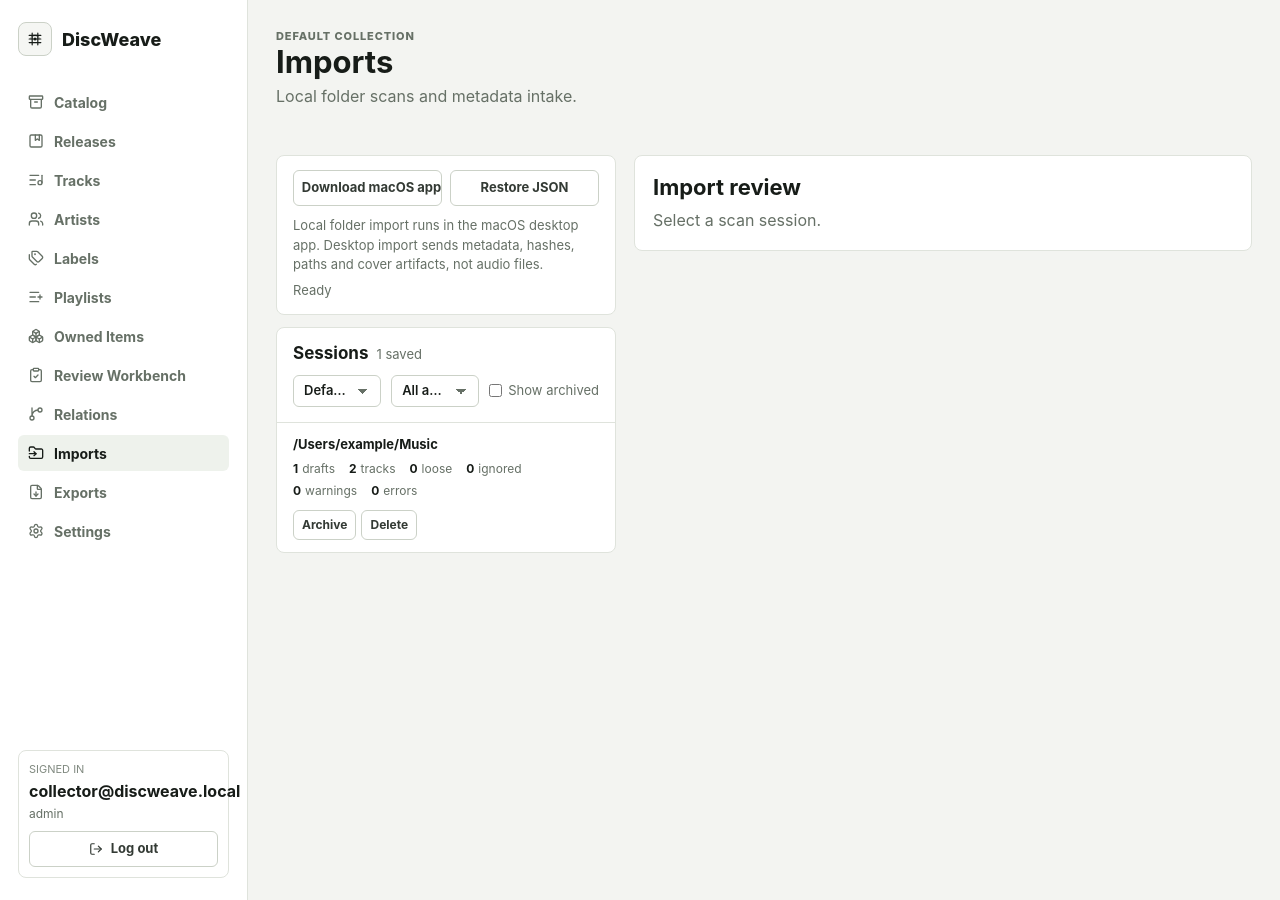
Test: App imports and exports › shows duplicate import matches before confirmation
The image size is (1280, 900).
Click the button "/Users/example/Music": click(365, 444) [293,436,599,453]
(page scrolled)
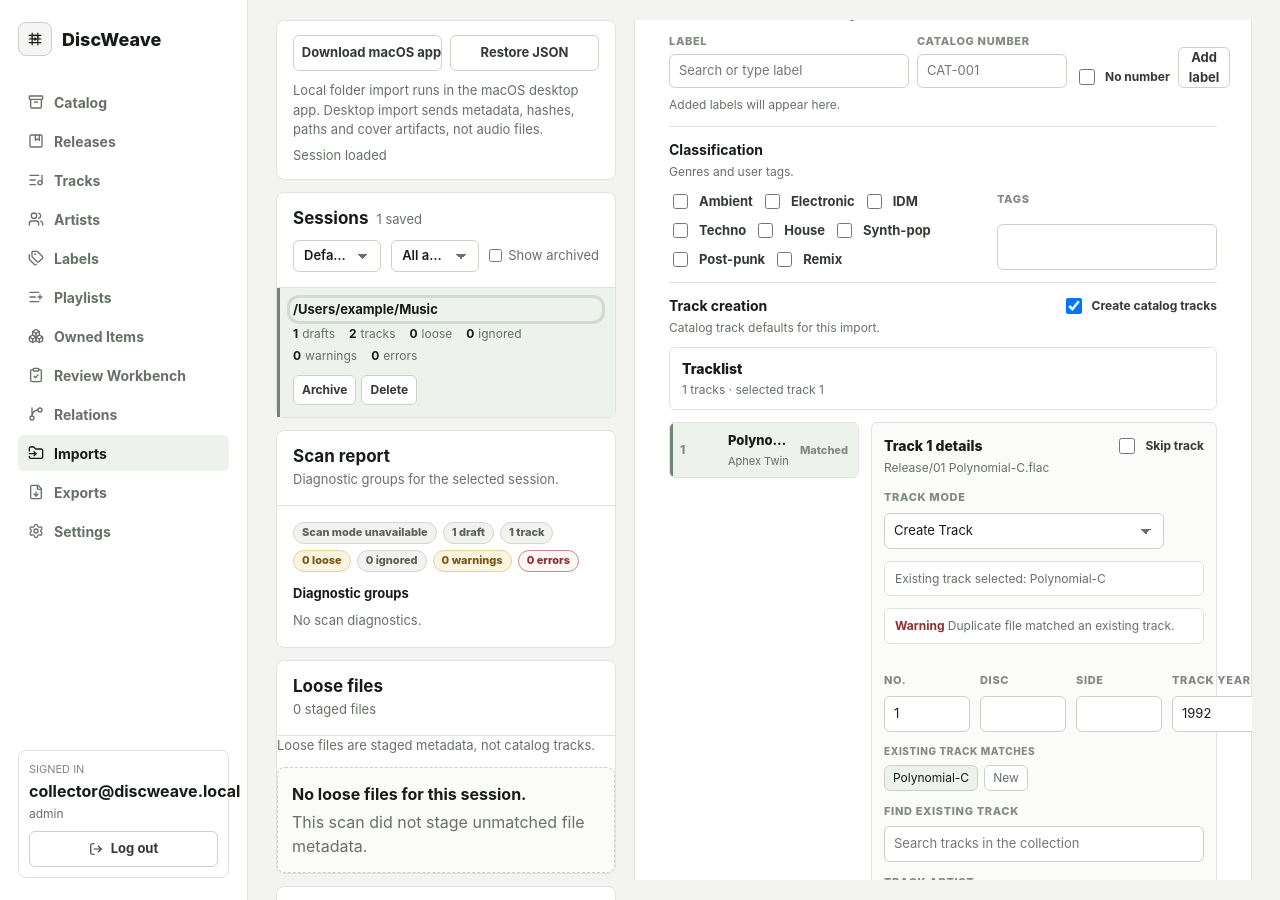
Now the text "Existing track selected: Polynomial-C" is shown, box [884,561,1204,596]
Now the text "Duplicate file matched an existing track." is shown, box [948,618,1174,633]
Now the text "Matched" is shown, box [800,442,848,458]
